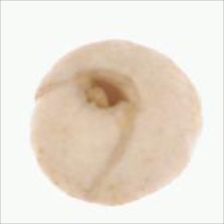L3: (79, 70, 131, 113)
L4: (30, 39, 202, 206)
